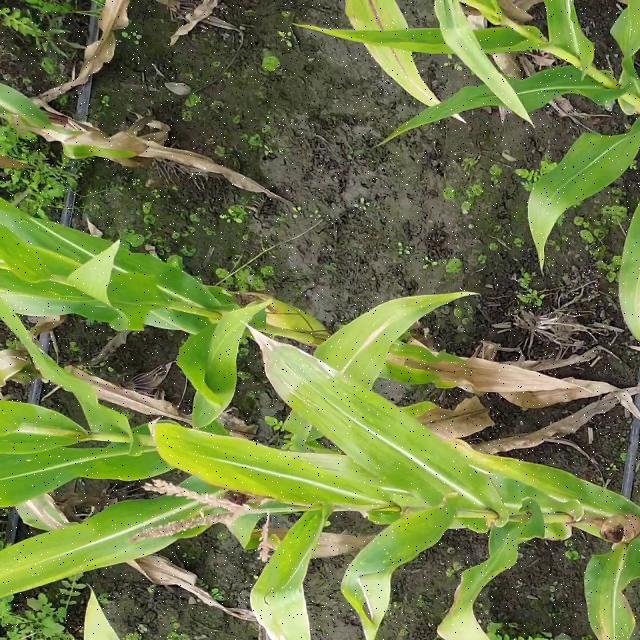northern-leaf-blight: (340, 310, 402, 361)
southern-leaf-blight: (351, 530, 402, 580)
